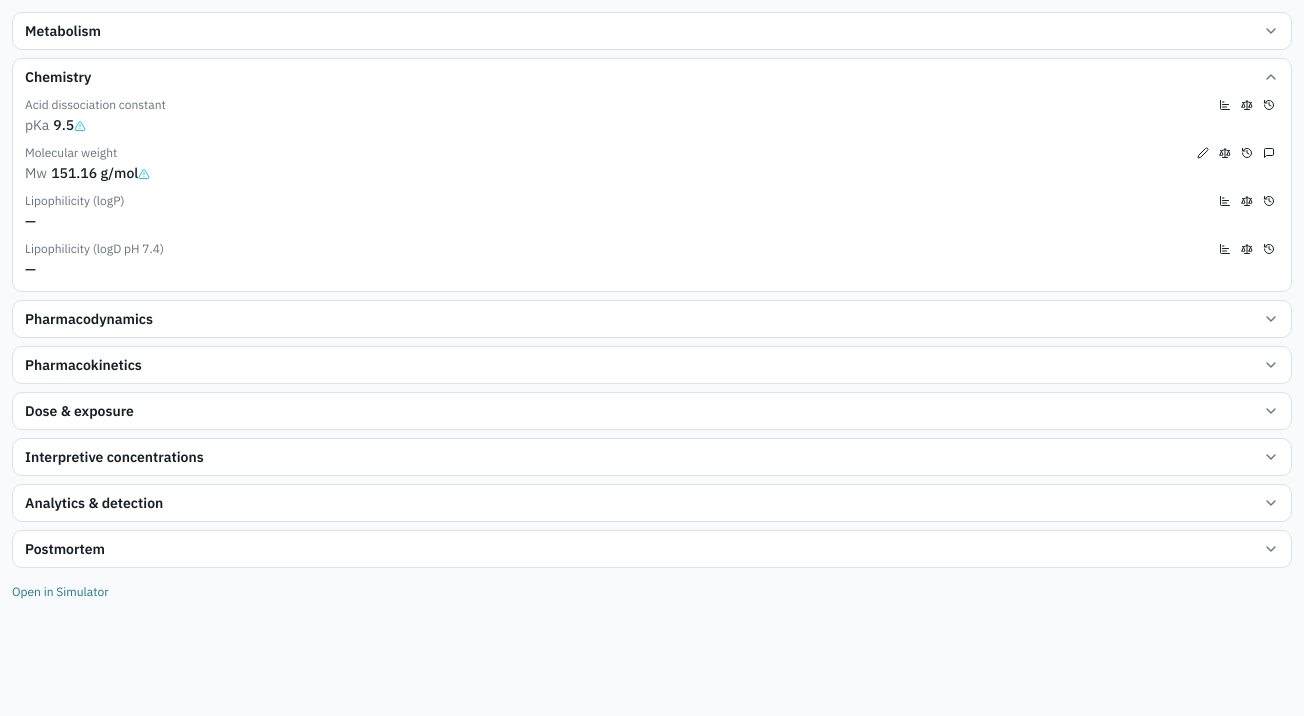
Test: DrugMonographSidebar › expands one parameter category at a time
The image size is (1304, 716).
Step 1. Click the button "Pharmacokinetics" → (83, 365), box left=13, top=347, right=1291, bottom=383
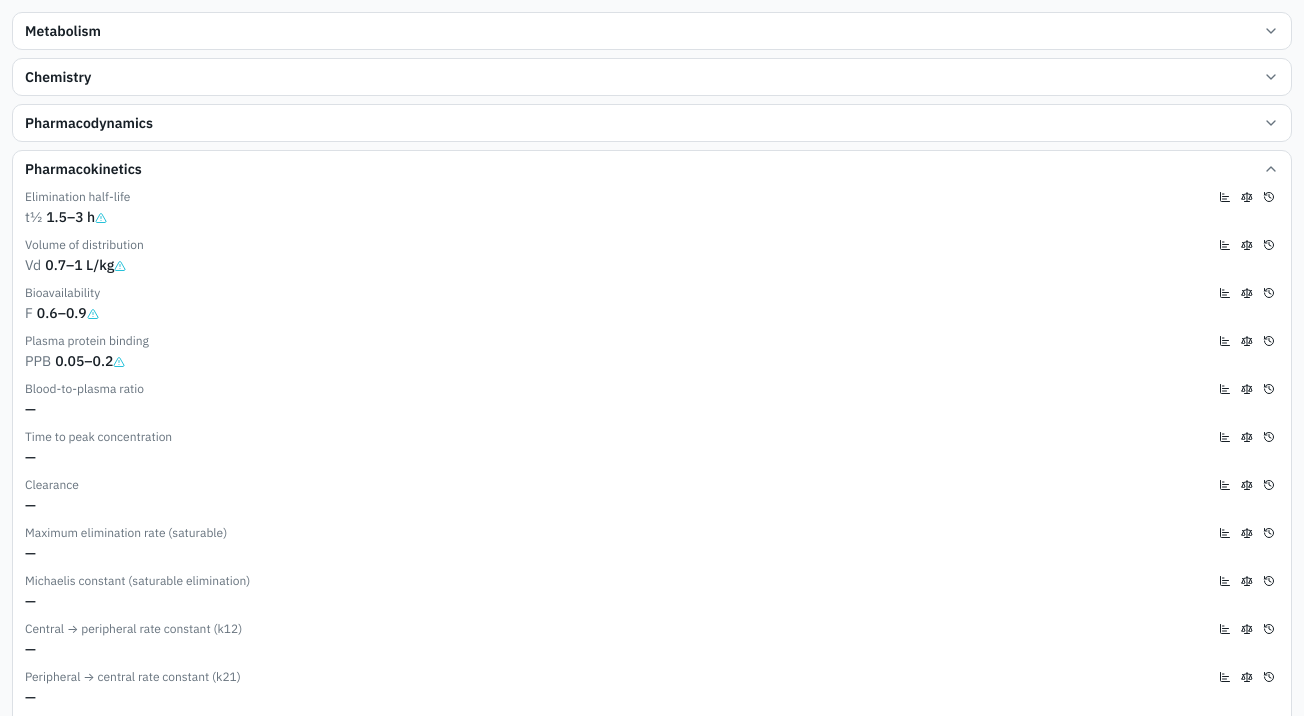
Now the text "Volume of distribution" is shown, box left=25, top=237, right=144, bottom=253
Now the text "Elimination half-life" is shown, box left=25, top=189, right=130, bottom=205
Step 2. Click the button "Chemistry" → (58, 77), box left=13, top=59, right=1291, bottom=95
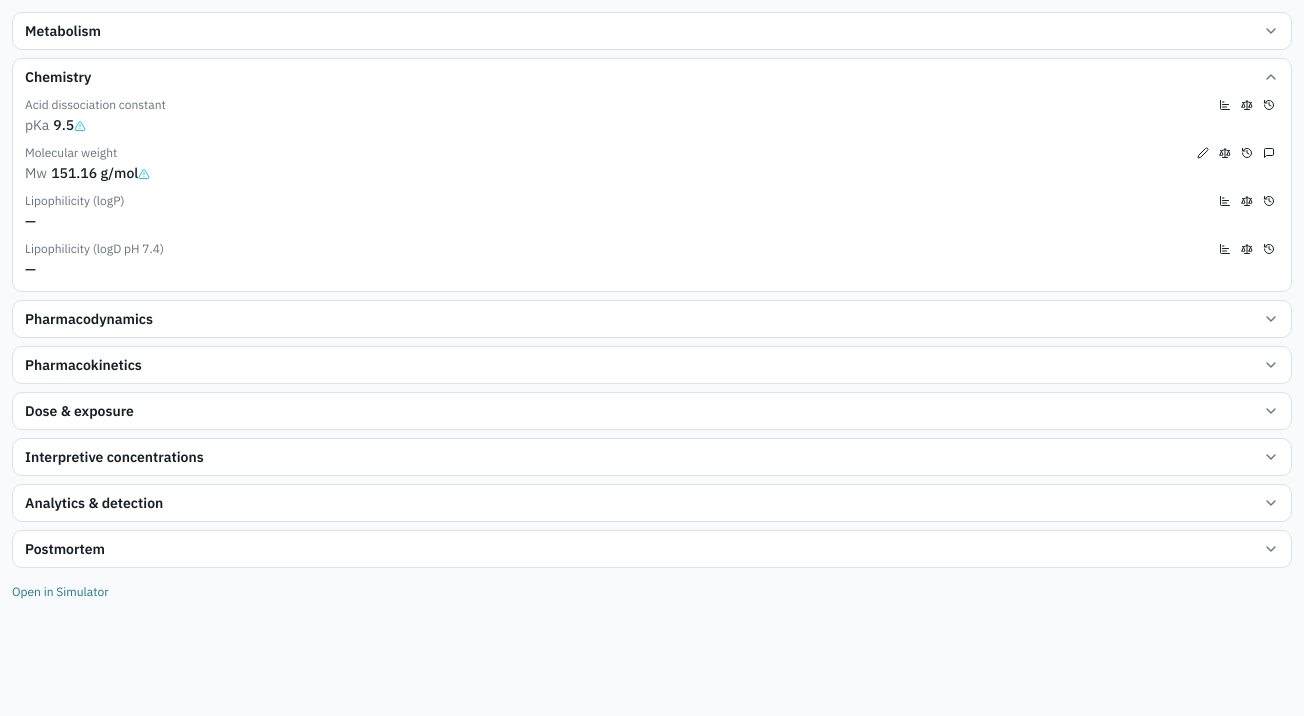
Now the text "Volume of distribution" is gone
